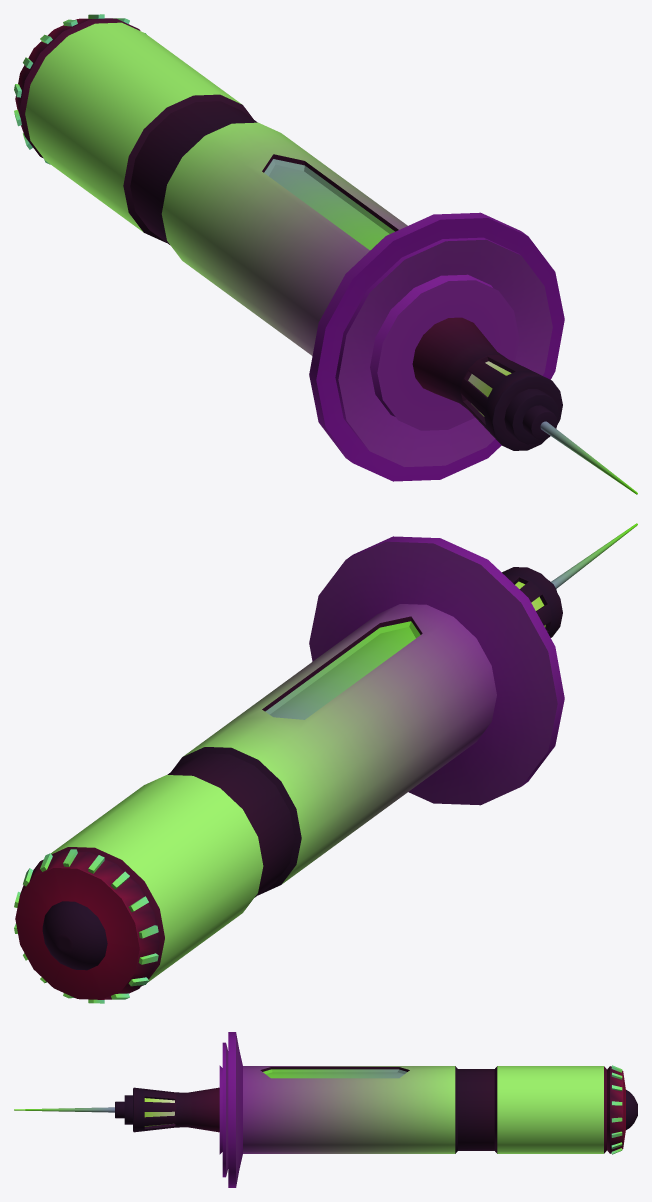
File: Scifi Syringe Poison.fbx
3 views of the same model, one above another, from view 1: azimuth 30°, elevation 25°; view 2: azimuth 150°, elevation 25°; view 3: azimuth 270°, elevation 25° (orthographic). The views are drawn at different scales.
Visible parts, largest first — view 1: Cylinder.001; view 2: Cylinder.001; view 3: Cylinder.001.
Boxes of the visible parts, x1,y1,x2,y2 form: Cylinder.001: [14, 14, 637, 494]; Cylinder.001: [14, 523, 637, 1003]; Cylinder.001: [14, 1032, 637, 1187].
Bounding box in the file's own units: 355 × 355 × 1419.
Materials: 1 (1 with a texture image).
